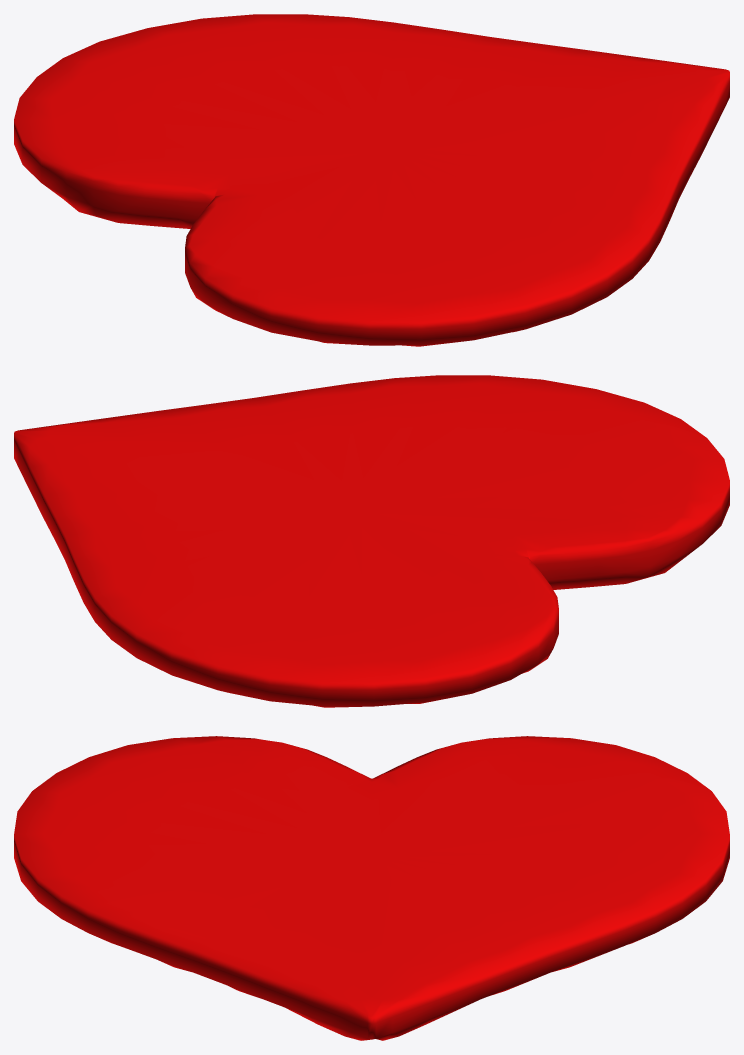
Rendered from heart.fbx.
The picture shows the model from 3 angles, top to bottom: view 1: azimuth 30°, elevation 25°; view 2: azimuth 150°, elevation 25°; view 3: azimuth 270°, elevation 25°; orthographic projection. The views are drawn at different scales.
Parts seen in each view (by area): view 1: pCylinder2; view 2: pCylinder2; view 3: pCylinder2.
Boxes of the visible parts, x1,y1,x2,y2 form: pCylinder2: [14, 14, 729, 346]; pCylinder2: [14, 375, 729, 707]; pCylinder2: [14, 736, 729, 1040].
Bounding box in the file's own units: 9.5 × 0.7389 × 10.26.
